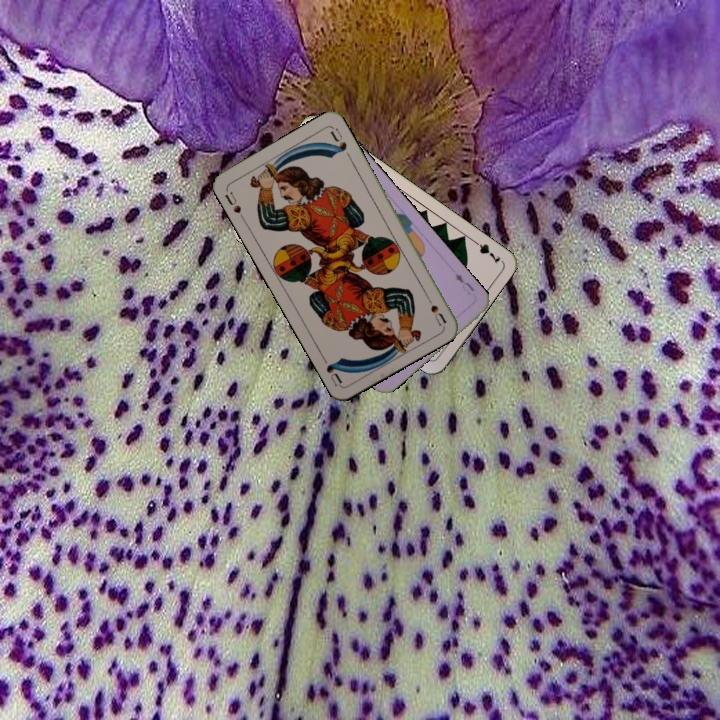EU: (451, 269, 477, 295)
G7: (468, 235, 504, 266)
SU: (421, 289, 449, 328), (220, 188, 244, 216)
